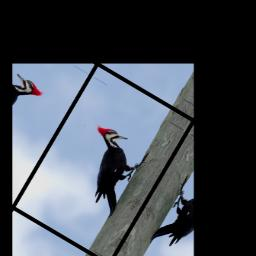Woodpecker: (60, 121, 152, 220)
